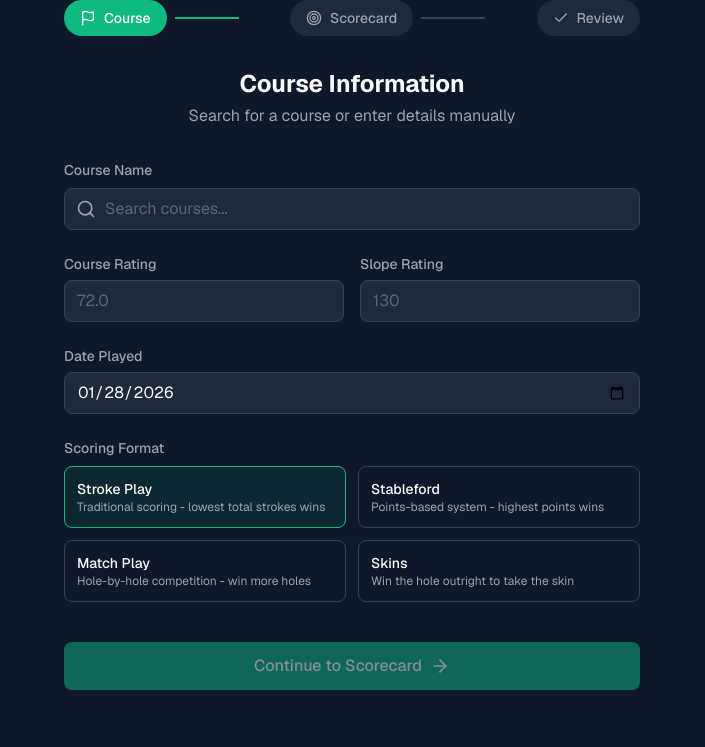
it: NewRoundPage › should navigate between holes
Note: Navigate to holes step
Type "Test Course" into the field with placeholder "Search courses..." at (352, 209), box [64,188,640,230]
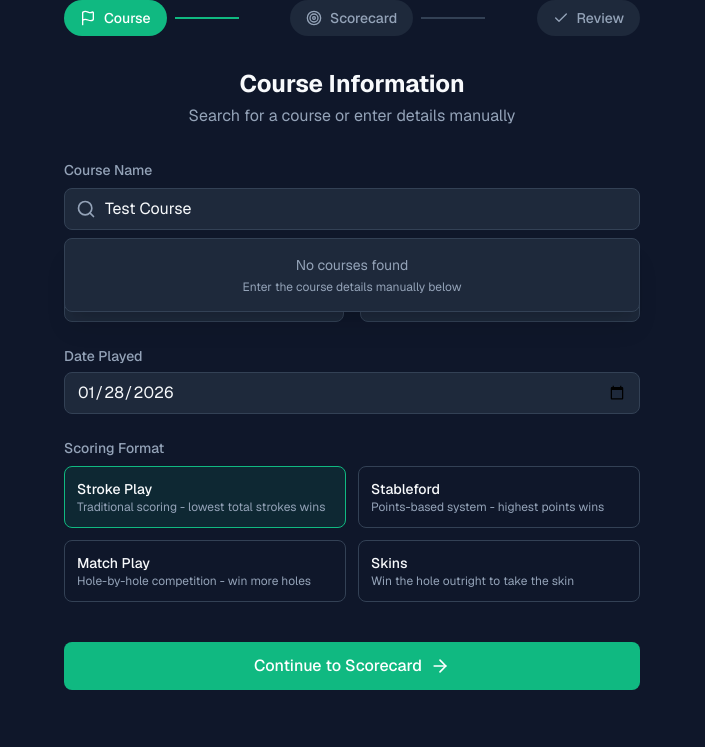
Click the button "Continue to Scorecard" at (352, 666), box [64,642,640,690]
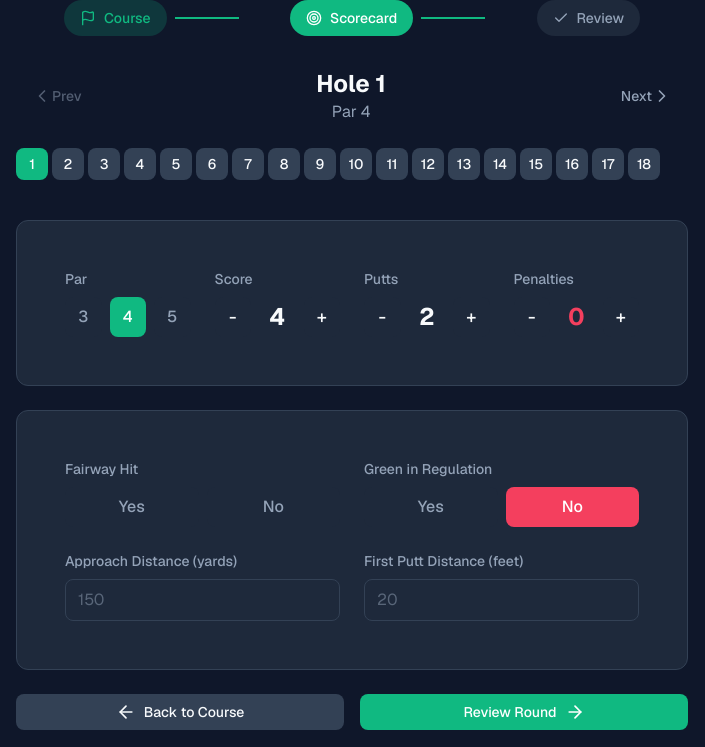
Expected: the heading "Hole 1" is shown, [316,68,386,100]
Click the button "Next" at (646, 96), box [605,78,688,114]
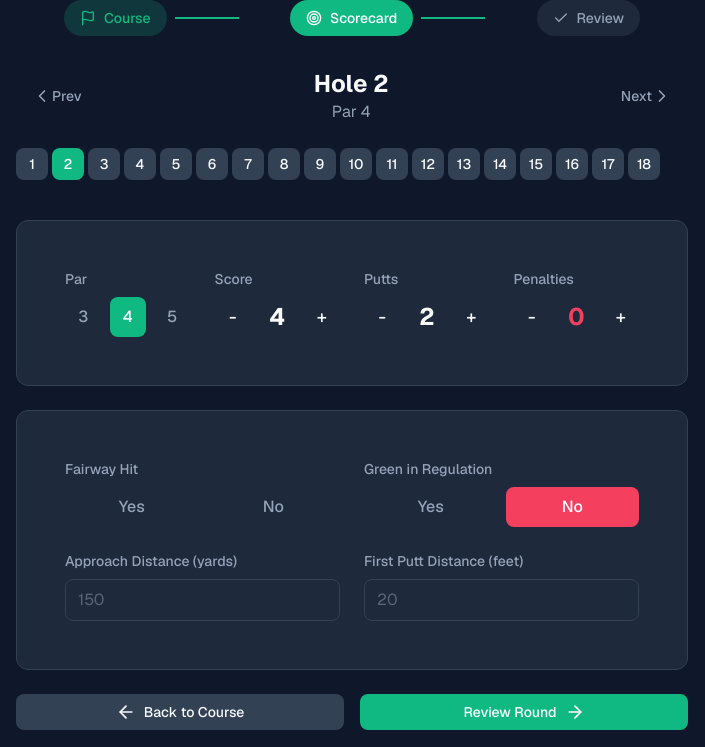
Expected: the heading "Hole 2" is shown, [314,68,389,100]
